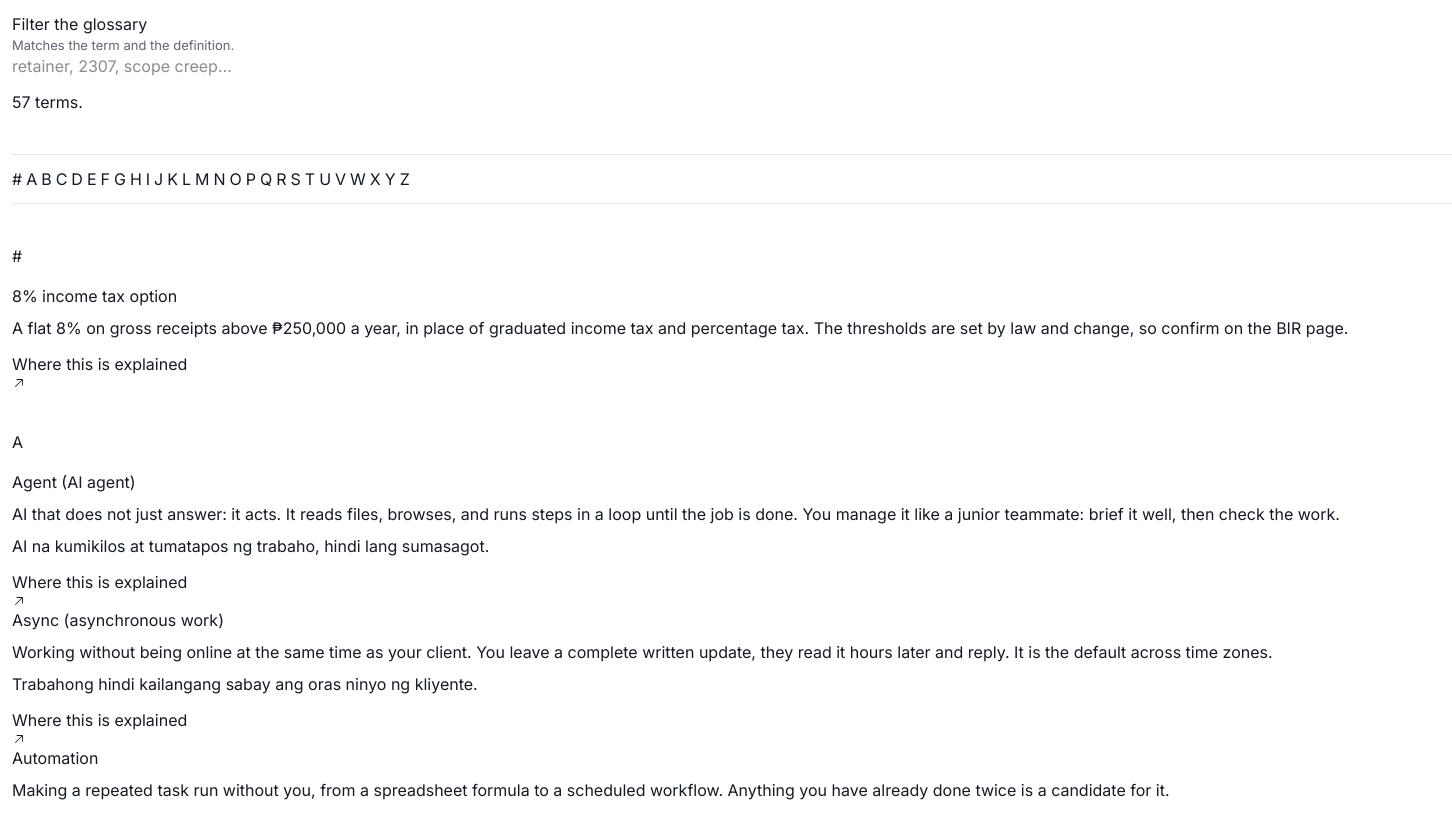
Test case: GlossaryBrowser › drops the jump row and explains when nothing matches
Type "zzzzqqq" into the search field labelled "Filter the glossary" at (129, 66), box [12, 54, 246, 78]
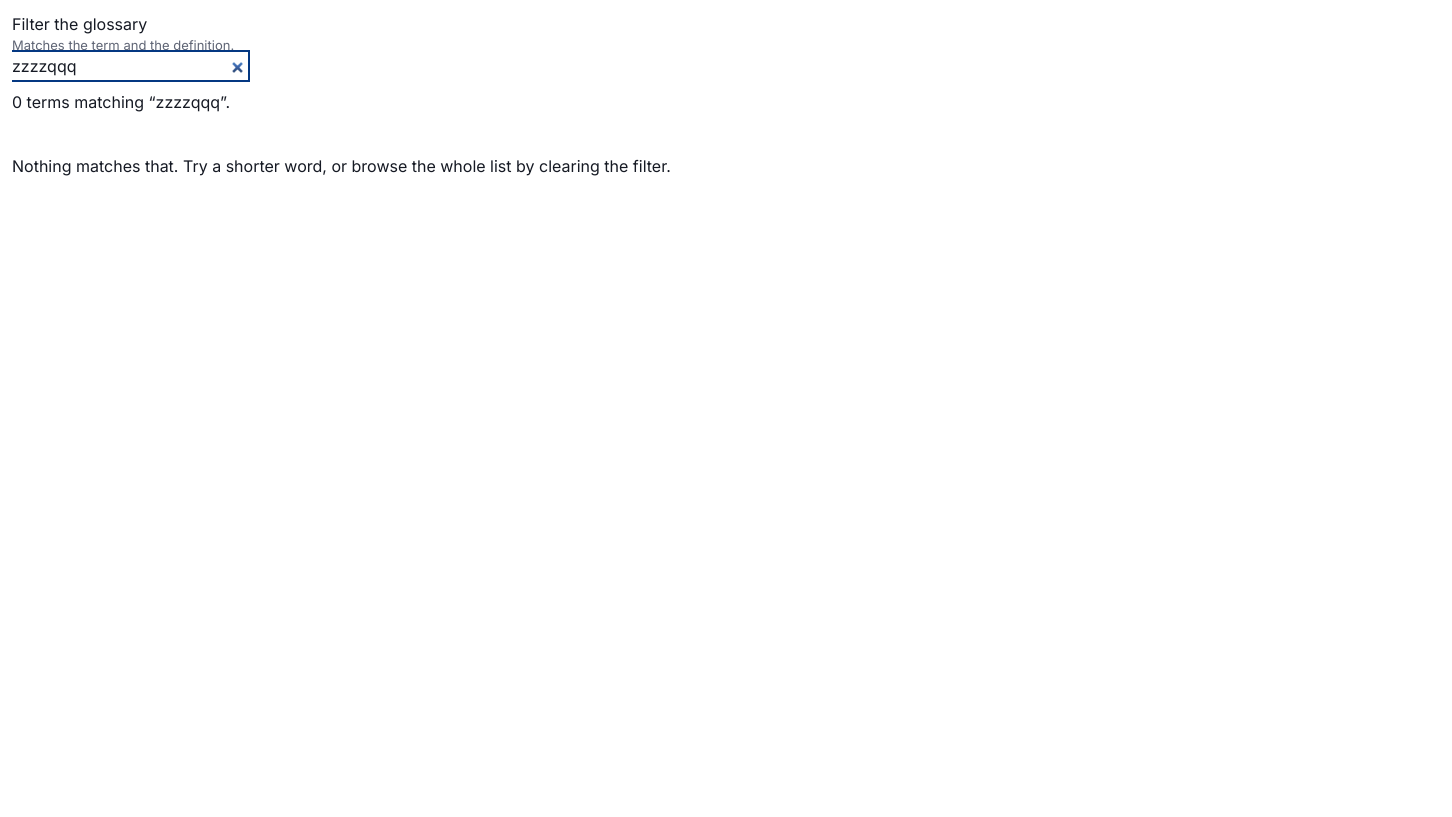
Expected: the text "Nothing matches that" is shown, [12, 156, 671, 176]
